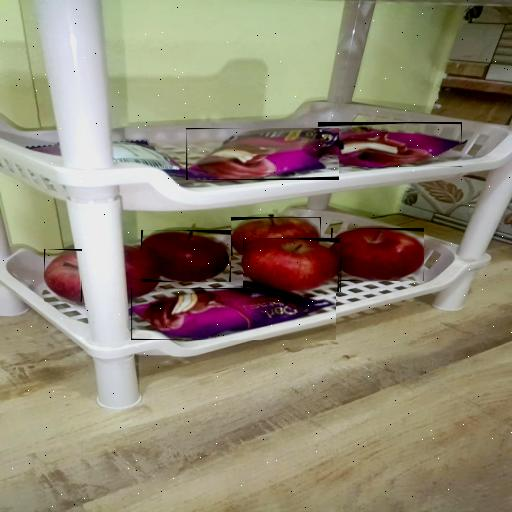Apple: (244, 238, 342, 292), (331, 228, 424, 281), (141, 230, 231, 282), (231, 217, 321, 256), (44, 249, 82, 302)
Choco Pie: (131, 288, 336, 340), (186, 128, 339, 180), (318, 122, 462, 167)
